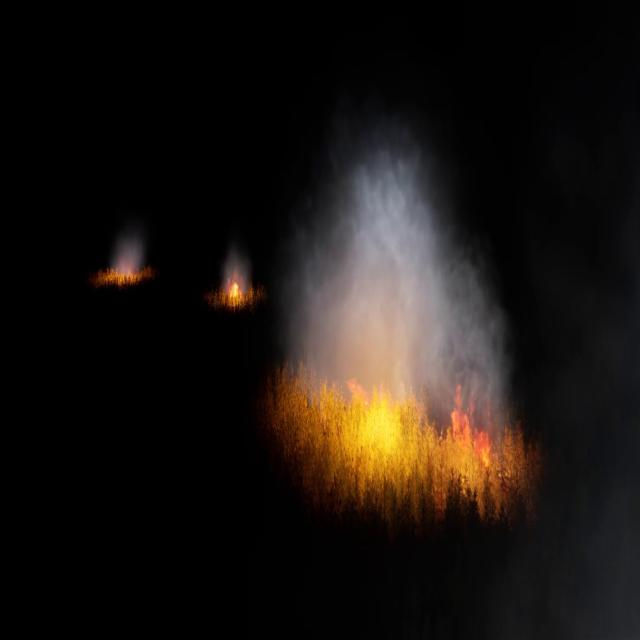fire: (275, 364, 541, 516), (228, 270, 244, 307)
smoke: (281, 125, 527, 449), (111, 230, 150, 275), (221, 250, 252, 300)
